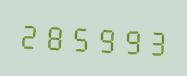eight: (42, 17, 66, 54)
five: (68, 18, 92, 55)
nine: (93, 20, 117, 57), (118, 21, 142, 58)
three: (143, 22, 167, 59)
two: (17, 16, 41, 53)
